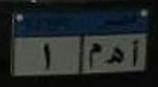1: (42, 42, 54, 73)
alif: (130, 38, 140, 69)
haa: (105, 43, 125, 68)
meem: (86, 41, 102, 70)
